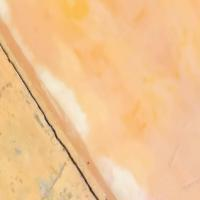crack: (0, 41, 102, 199)
